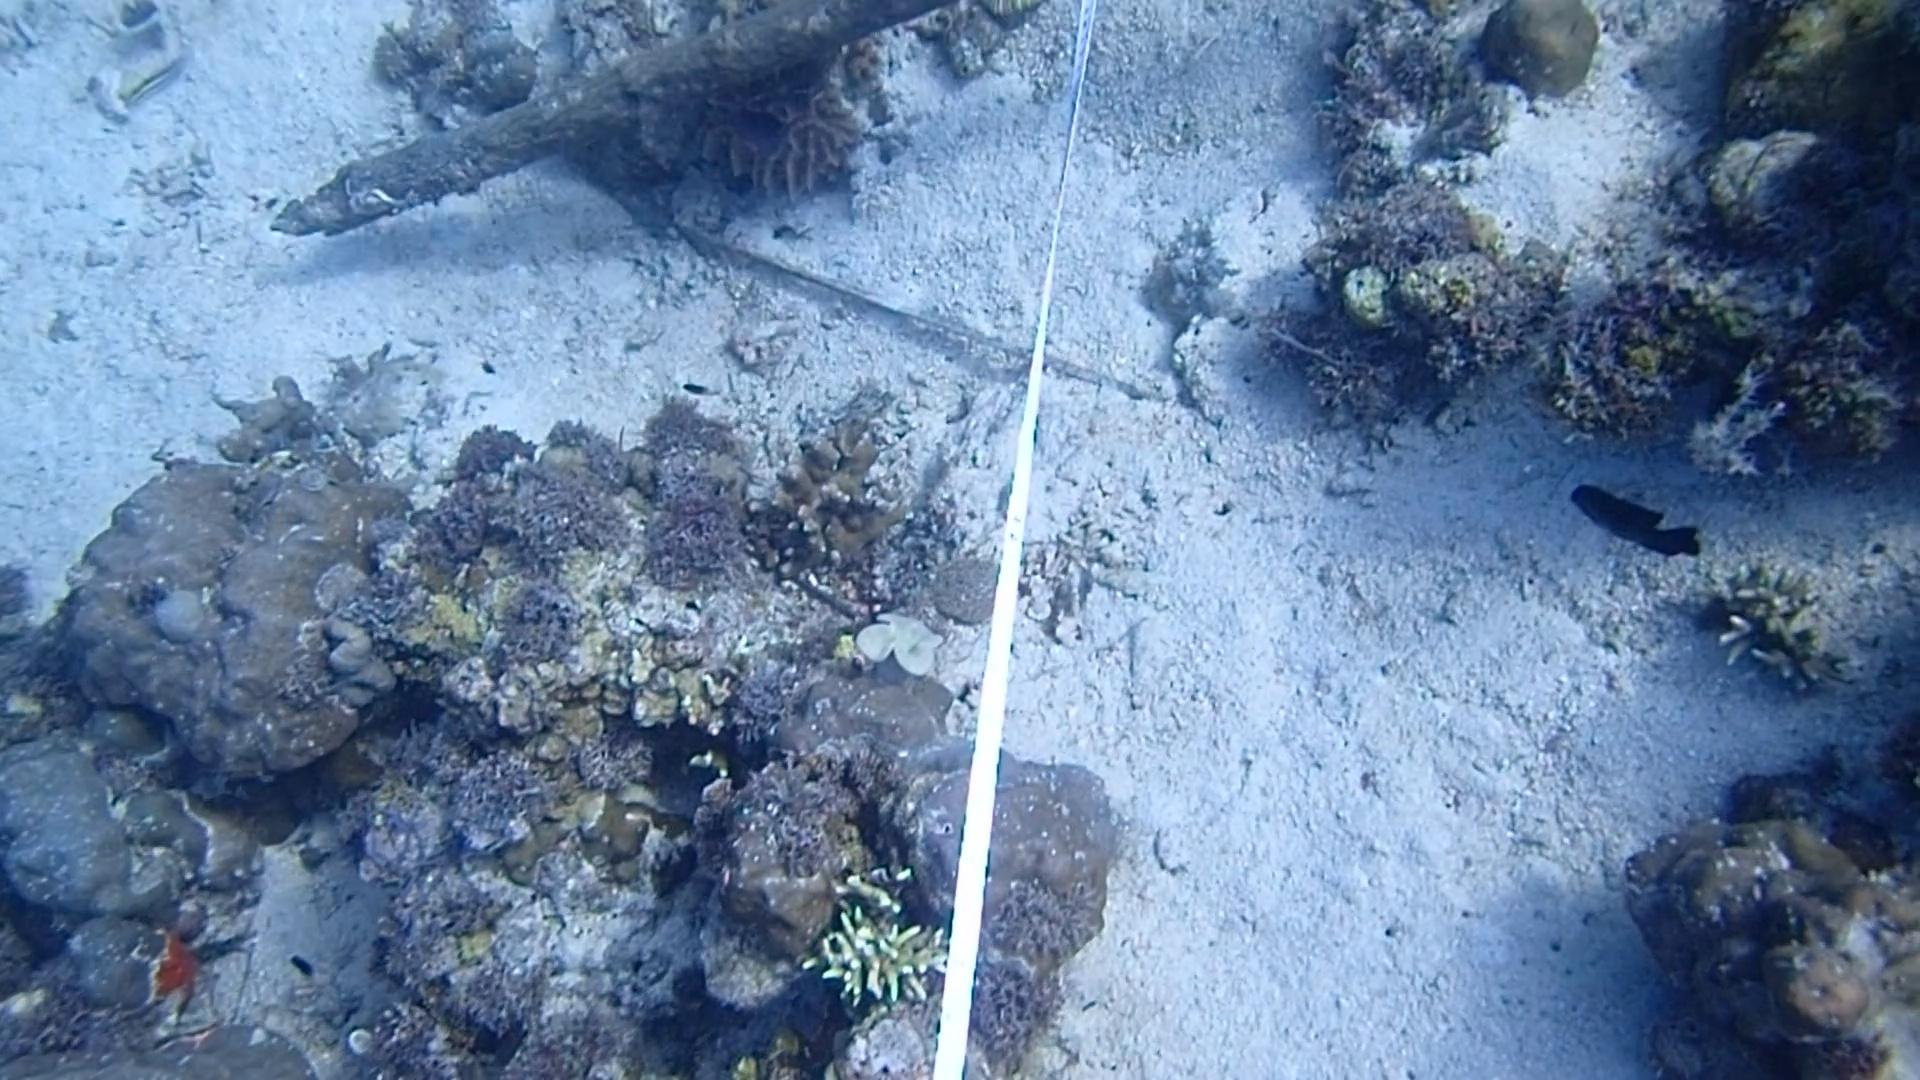Dark Fish: (1549, 471, 1713, 570)
Striped Fish: (109, 36, 198, 129)
